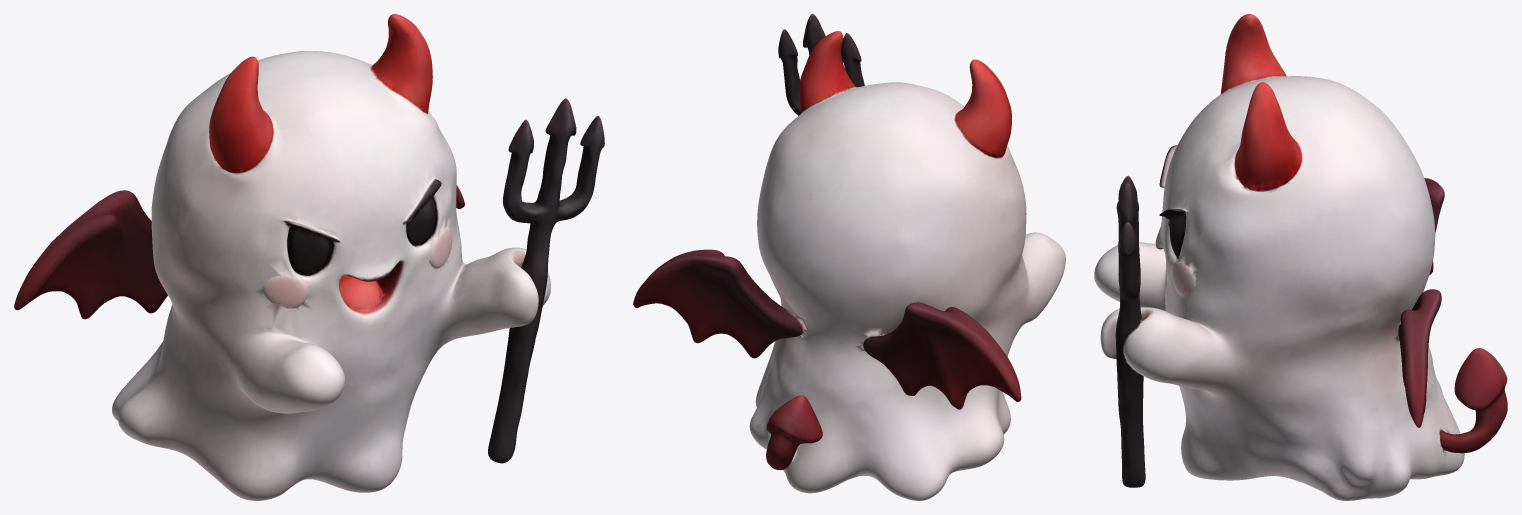
File: devil.glb
3 renders of one model, left to right at view 1: azimuth 30°, elevation 25°; view 2: azimuth 150°, elevation 25°; view 3: azimuth 270°, elevation 25°, orthographic. The views are drawn at different scales.
Parts seen in each view (by area): view 1: tripo_node_9dfbd67e-70a8-4a8d-81a3-2f5424503f2c; view 2: tripo_node_9dfbd67e-70a8-4a8d-81a3-2f5424503f2c; view 3: tripo_node_9dfbd67e-70a8-4a8d-81a3-2f5424503f2c.
Boxes of the visible parts, x1,y1,x2,y2 form: tripo_node_9dfbd67e-70a8-4a8d-81a3-2f5424503f2c: (14, 14, 604, 500); tripo_node_9dfbd67e-70a8-4a8d-81a3-2f5424503f2c: (633, 14, 1065, 500); tripo_node_9dfbd67e-70a8-4a8d-81a3-2f5424503f2c: (1094, 14, 1507, 500).
Bounding box in the file's own units: 0.9797 × 0.9213 × 0.8274.
1 material, 1 textured.
